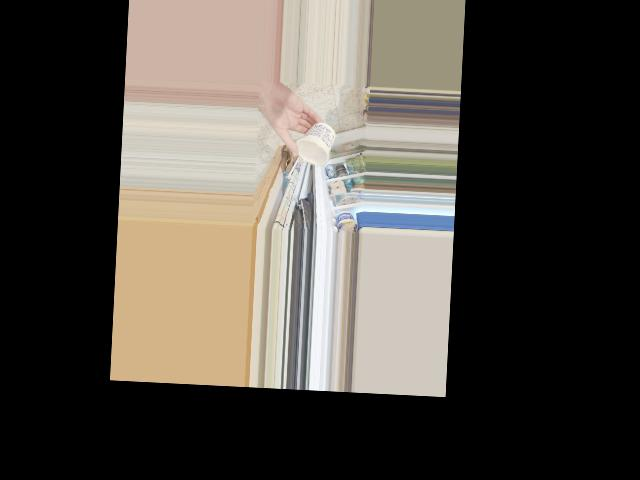cotage: (299, 122, 334, 166)
